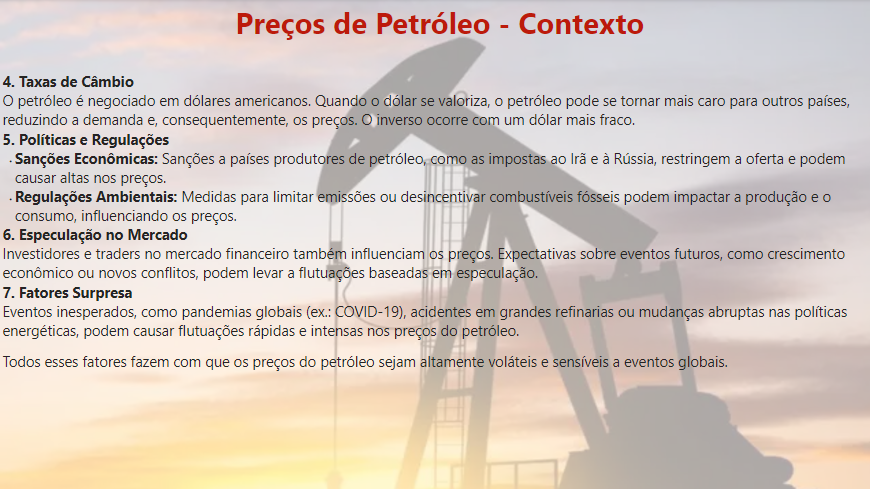

This screenshot's page, from the dashboard's own definition file:
{"tool":"powerbi","page":{"name":"Contexto - 2","canvas":[1280,720],"ordinal":1},"visuals":[{"type":"textbox","box":[0,100.8,1280,619.8],"z":0},{"type":"textbox","box":[10.1,0,1269.9,77.3],"z":1000}]}

Visuals, with their boxes in screenshot pixels (x1, y1, x2, y2), scaled from the page's 1280x720 canvas onto the 870x489 screenshot:
textbox: Rect(0, 68, 869, 488)
textbox: Rect(7, 0, 869, 52)
